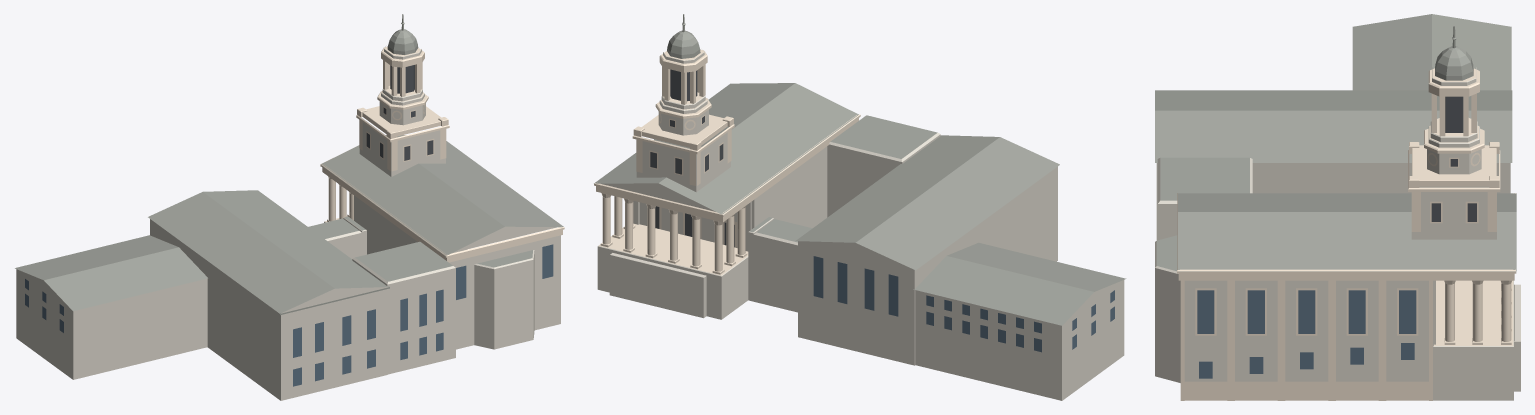
The model's file is ric-st-pauls-church.glb.
The picture shows the model from 3 angles, left to right: view 1: azimuth 30°, elevation 25°; view 2: azimuth 150°, elevation 25°; view 3: azimuth 270°, elevation 25°; orthographic projection. The views are drawn at different scales.
Visible parts, largest first — view 1: St. Paul's Episcopal Church; view 2: St. Paul's Episcopal Church; view 3: St. Paul's Episcopal Church.
Boxes of the visible parts, box(x1,y1,x2,y2) form: St. Paul's Episcopal Church: box(15, 14, 564, 400); St. Paul's Episcopal Church: box(594, 14, 1126, 400); St. Paul's Episcopal Church: box(1155, 14, 1520, 400).
Bounding box in the file's own units: 77.9 × 43.55 × 42.8.
